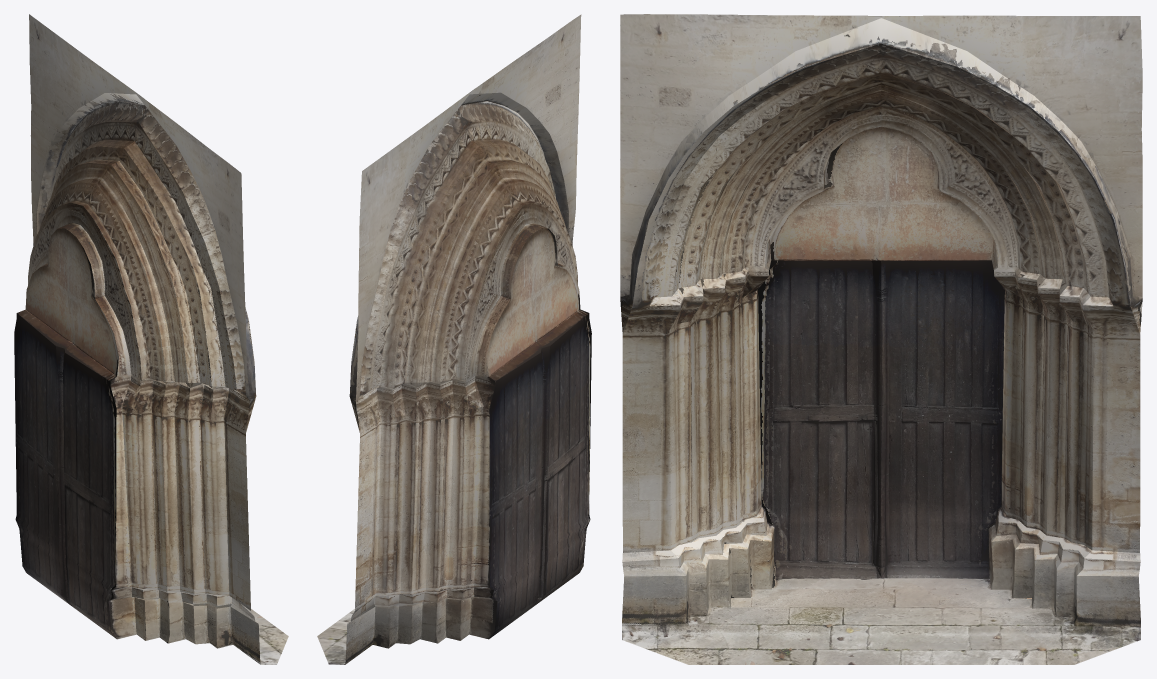
Rendered from Gate.fbx.
The picture shows the model from 3 angles, left to right: view 1: azimuth 30°, elevation 25°; view 2: azimuth 150°, elevation 25°; view 3: azimuth 270°, elevation 25°; orthographic projection. The views are drawn at different scales.
Parts seen in each view (by area): view 1: Gate; view 2: Gate; view 3: Gate.
Boxes of the visible parts, box(x1,y1,x2,y2) form: Gate: box(14, 14, 288, 664); Gate: box(317, 14, 591, 664); Gate: box(620, 14, 1142, 664).
Size of the model in its own units: 64.03 by 206 by 161.
1 material, 1 textured.
